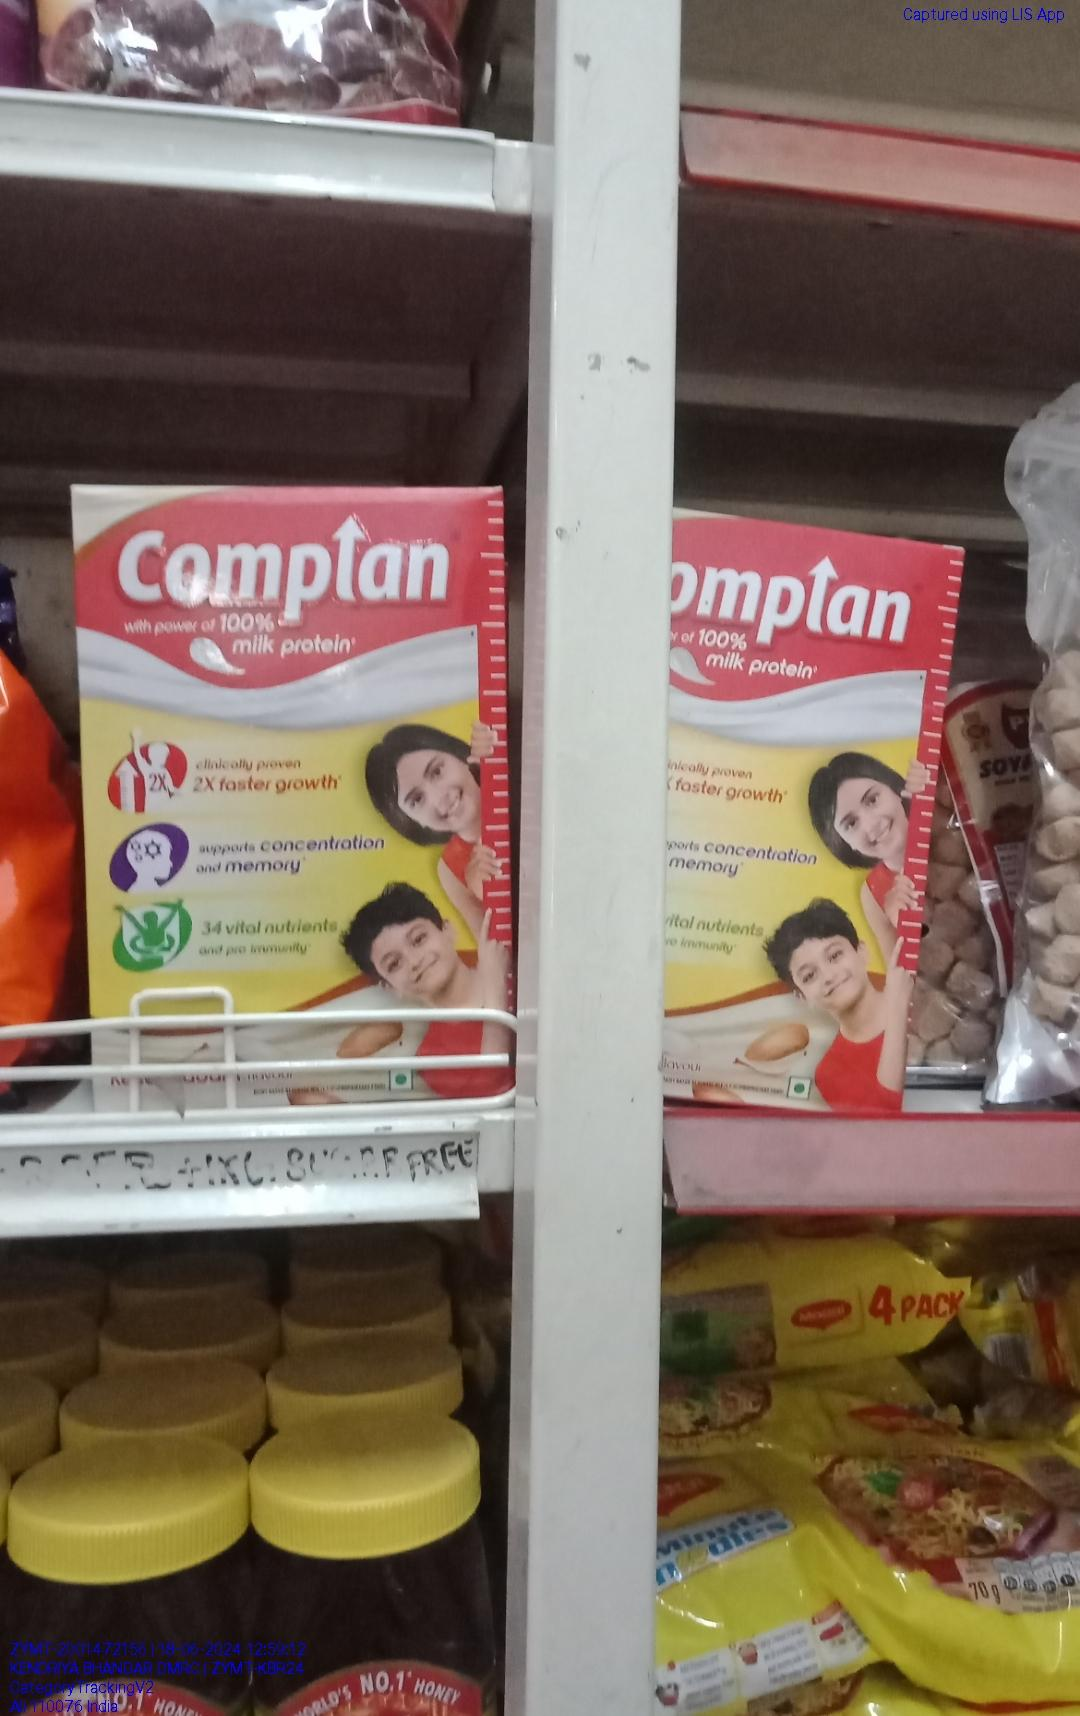COMPLAN_PISTA_BADAM_500_GMS_PACK: (91, 482, 503, 1114), (667, 538, 954, 1112)
